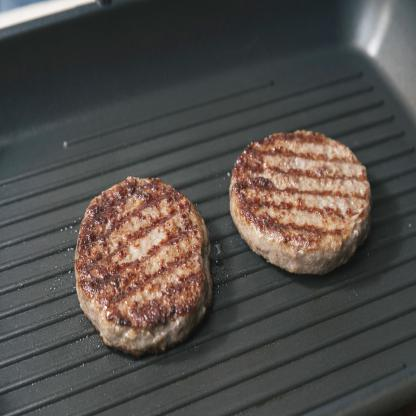Carne: (74, 175, 209, 339), (231, 123, 365, 265)
